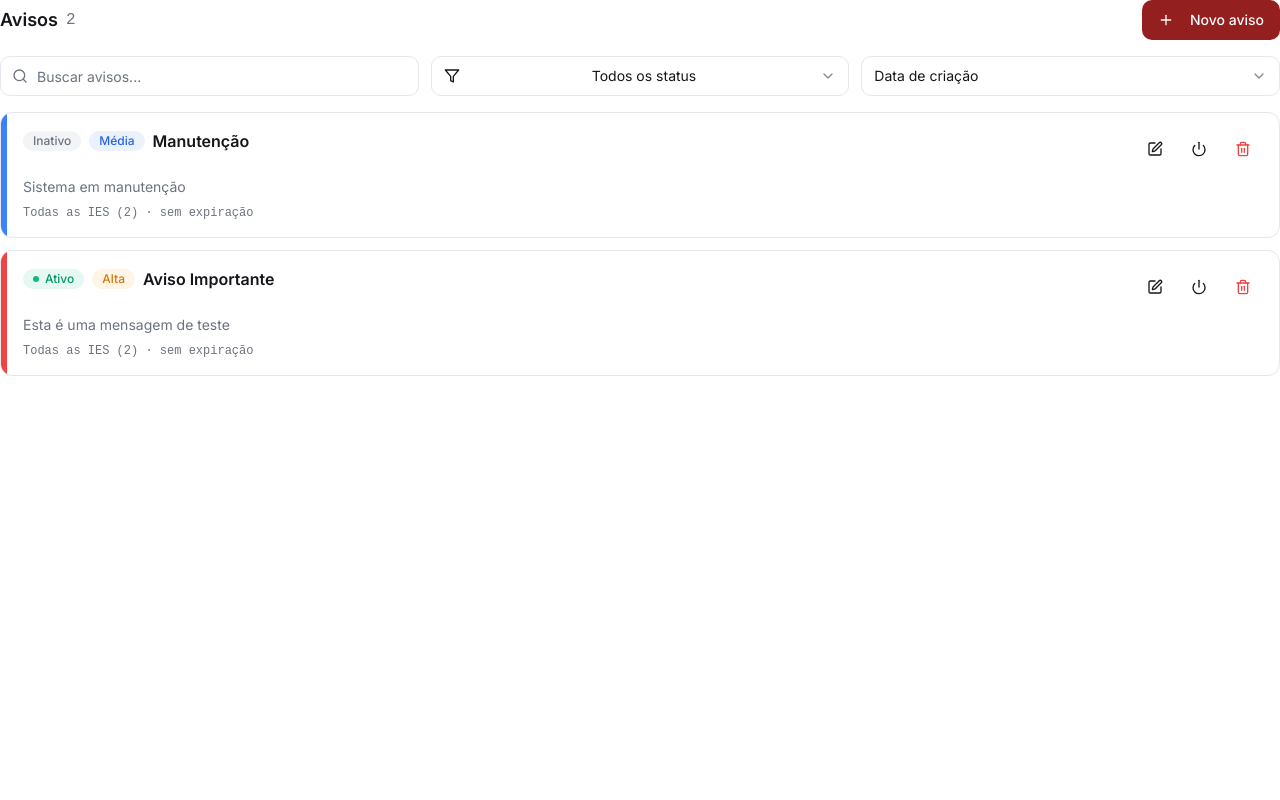
Scenario: AnnouncementsTab › should open editor when edit button is clicked
Click the button named "Editar aviso" in the row of "Média". click: (1155, 149)
box: top-left (1135, 129), bottom-right (1175, 169)
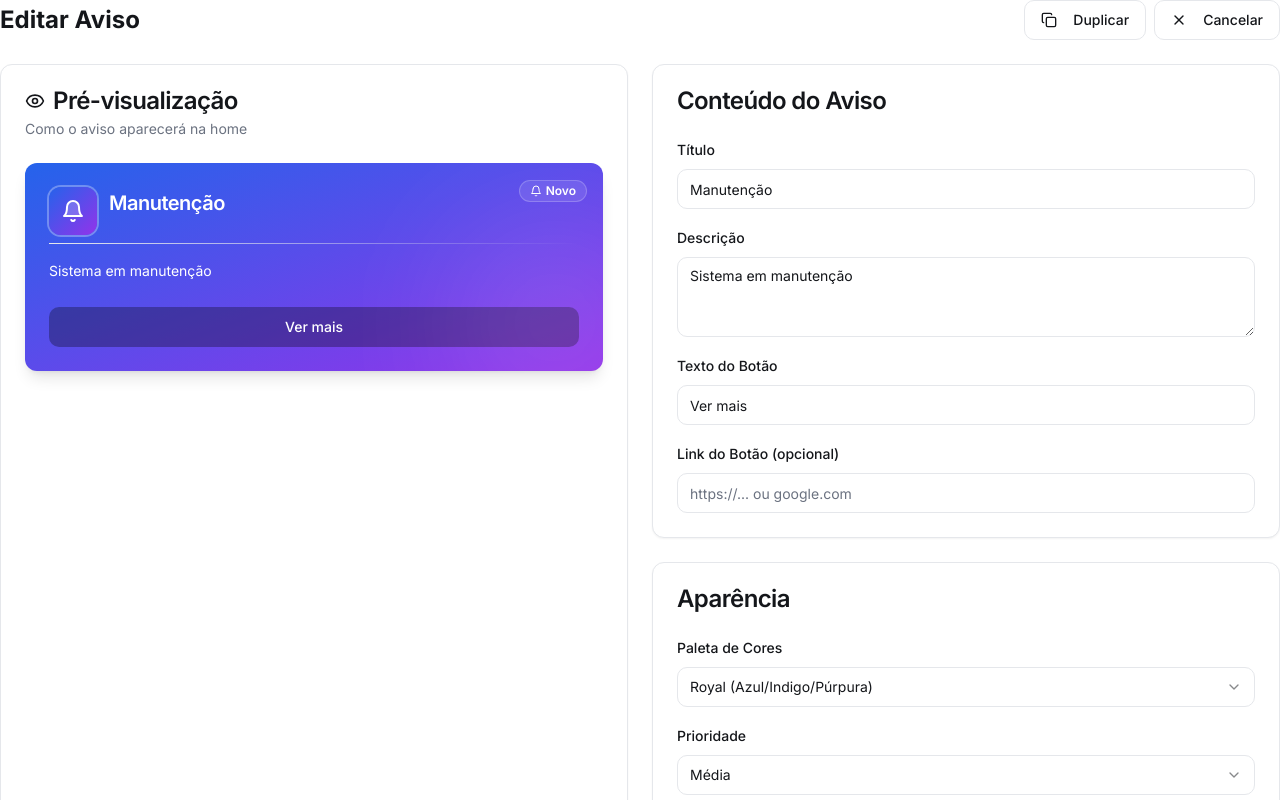
Check: the heading "Editar Aviso" is shown, box top-left (0, 4), bottom-right (140, 36)
